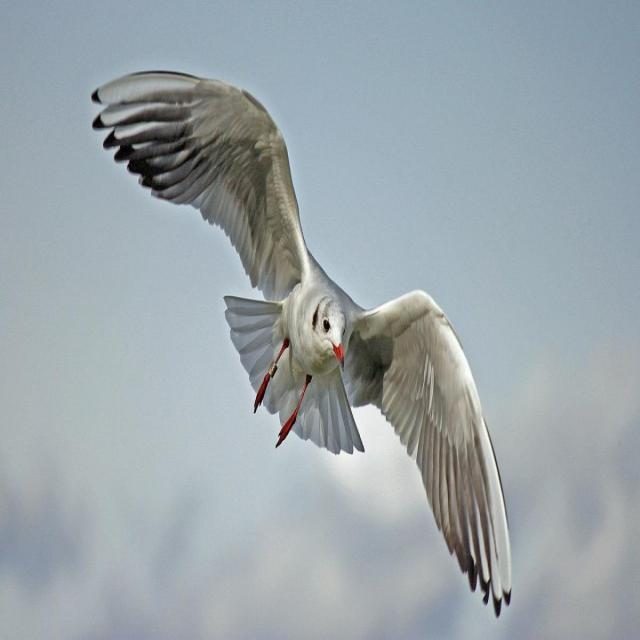bird: (72, 31, 561, 620)
